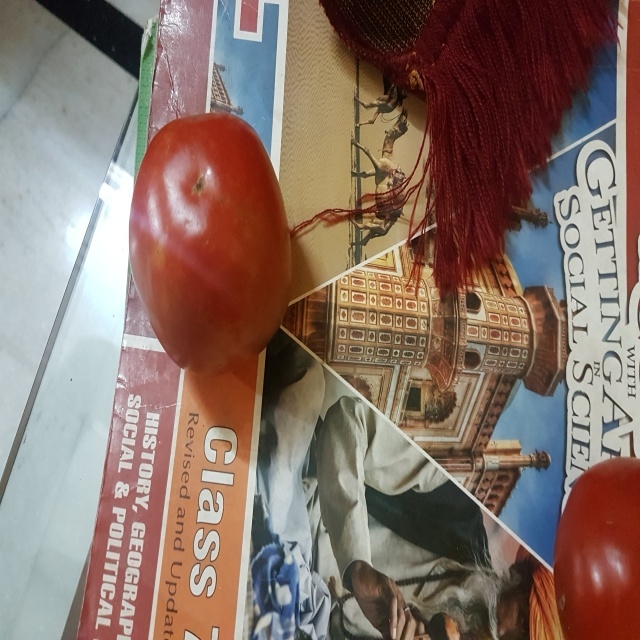tomato: (126, 121, 315, 381)
